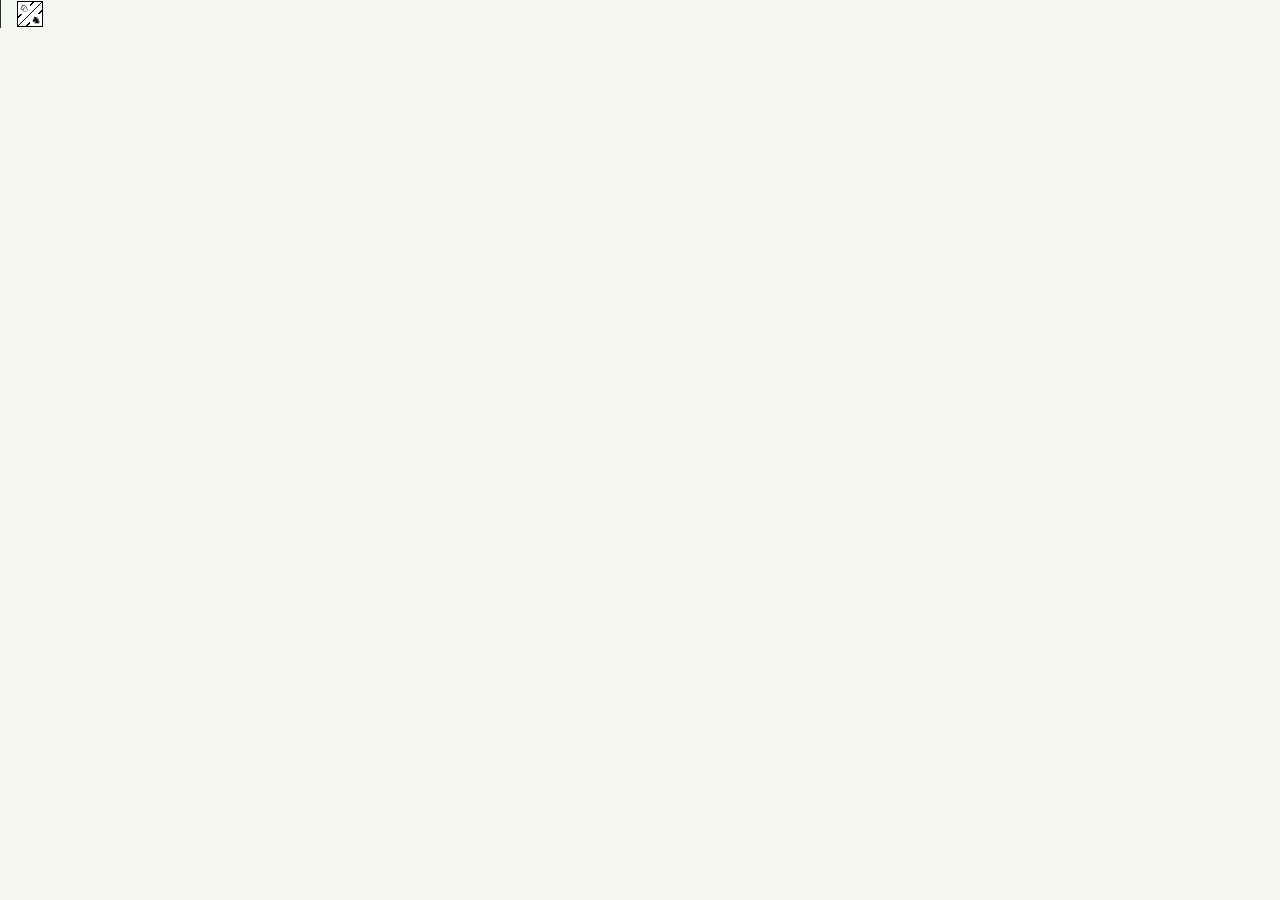
Test: BoardStylePicker › previews each skin with its own squares and piece geometry
Step 1. Click the button named "Board skin:" → (30, 14), box [1, 0, 59, 28]
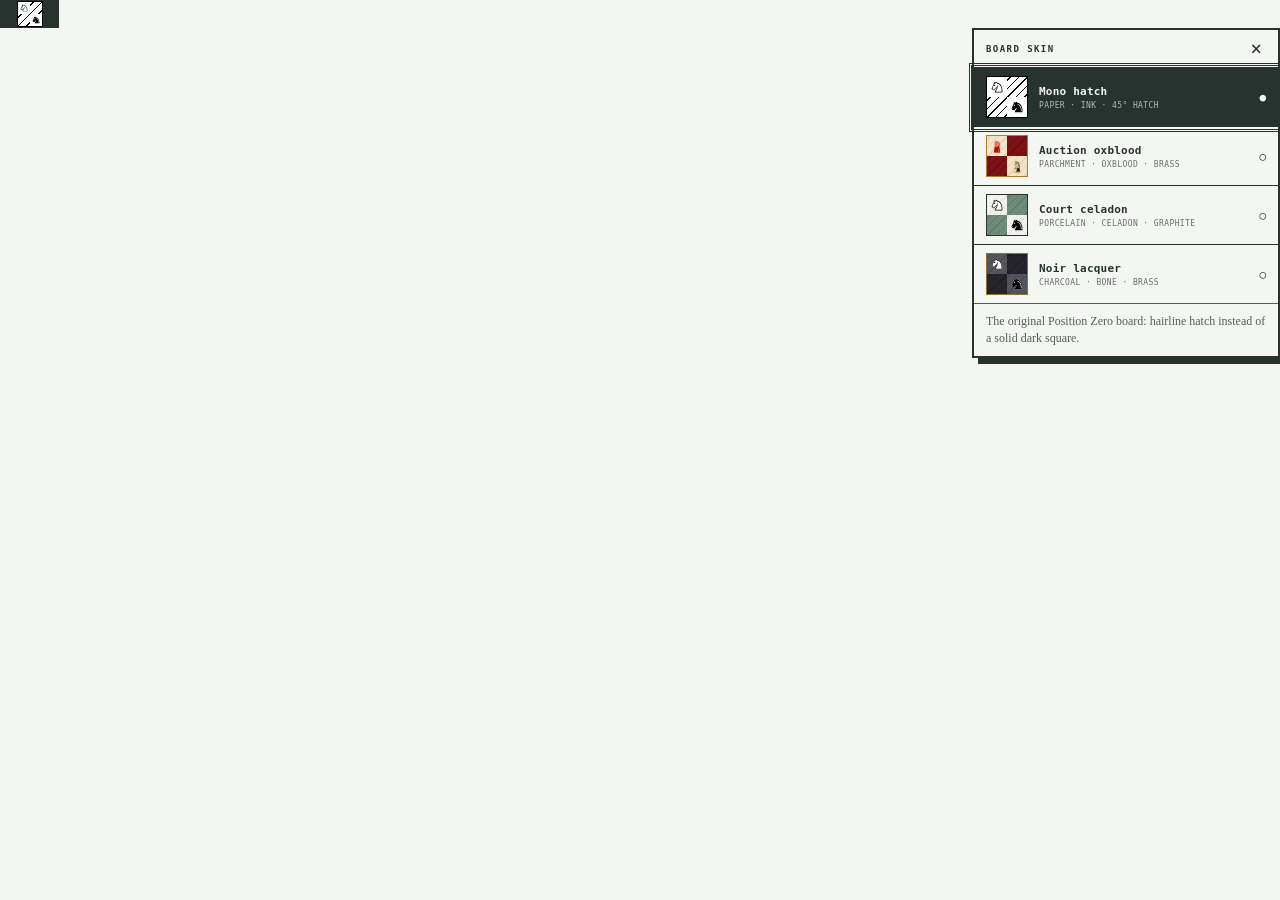
expect the number of pictures with class "chess-piece-porcelain" is 2: met, box [989, 138, 1005, 154]; [1009, 158, 1025, 174]
expect the number of pictures with class "chess-piece-standard" is 8: met
